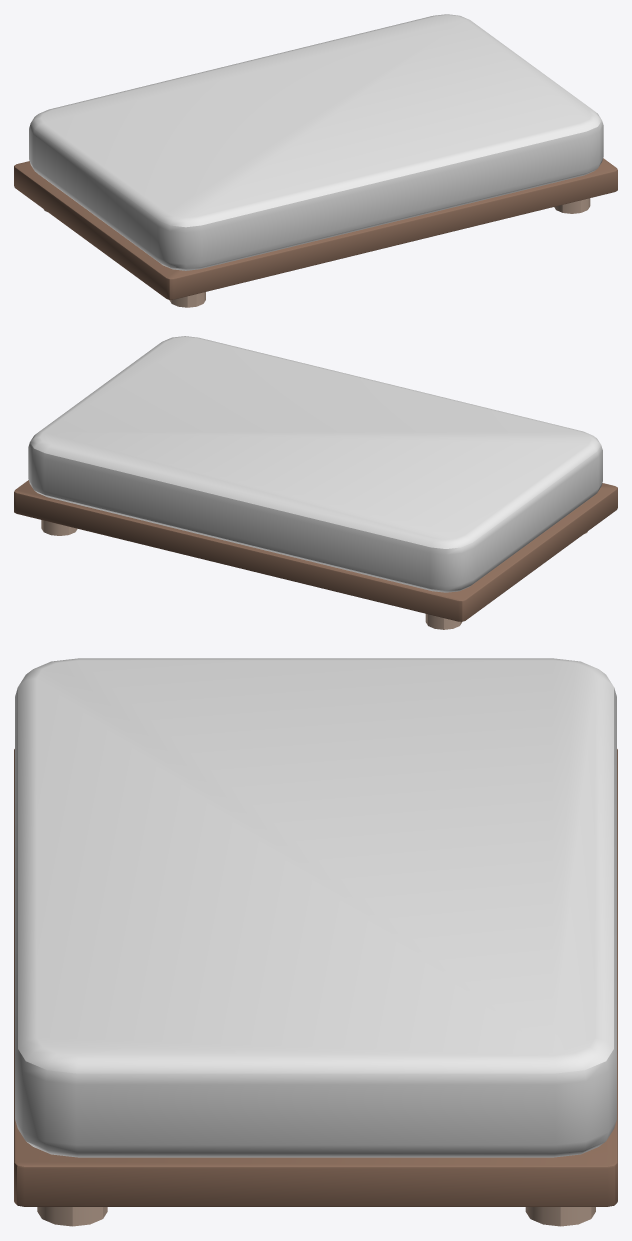
File: MP_Prebuilt_Bed.fbx
The picture shows the model from 3 angles, top to bottom: view 1: azimuth 30°, elevation 25°; view 2: azimuth 150°, elevation 25°; view 3: azimuth 270°, elevation 25°; orthographic projection. The views are drawn at different scales.
Parts seen in each view (by area): view 1: Bed_Mattress, Bed_Frame, Bed_FrameLegs; view 2: Bed_Mattress, Bed_Frame, Bed_FrameLegs; view 3: Bed_Mattress, Bed_Frame, Bed_FrameLegs.
Part boxes in pixels (box(x1,y1,x2,y2)): Bed_Mattress: box(29, 14, 603, 270); Bed_Frame: box(14, 158, 617, 299); Bed_FrameLegs: box(44, 198, 590, 307); Bed_Mattress: box(28, 336, 602, 592); Bed_Frame: box(14, 480, 617, 621); Bed_FrameLegs: box(41, 520, 587, 629); Bed_Mattress: box(15, 658, 616, 1157); Bed_Frame: box(14, 749, 617, 1206); Bed_FrameLegs: box(37, 1207, 595, 1226).
Size of the model in its own units: 229 by 43.73 by 138.
